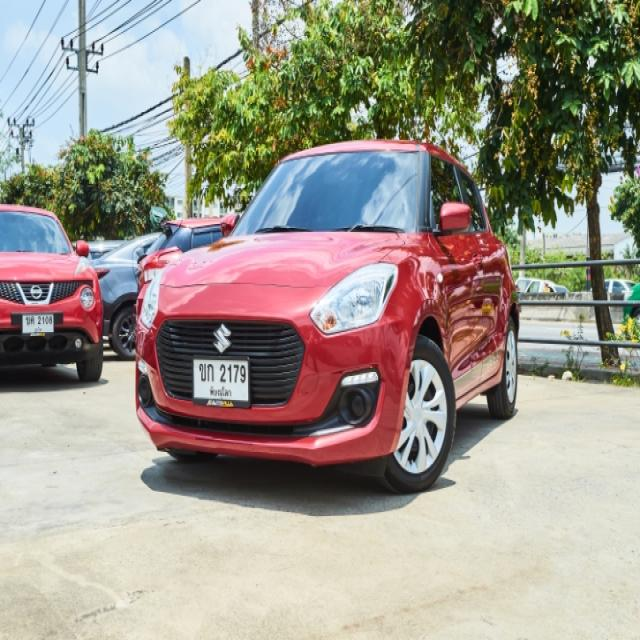license_plate: (192, 354, 252, 412), (21, 310, 55, 339)
